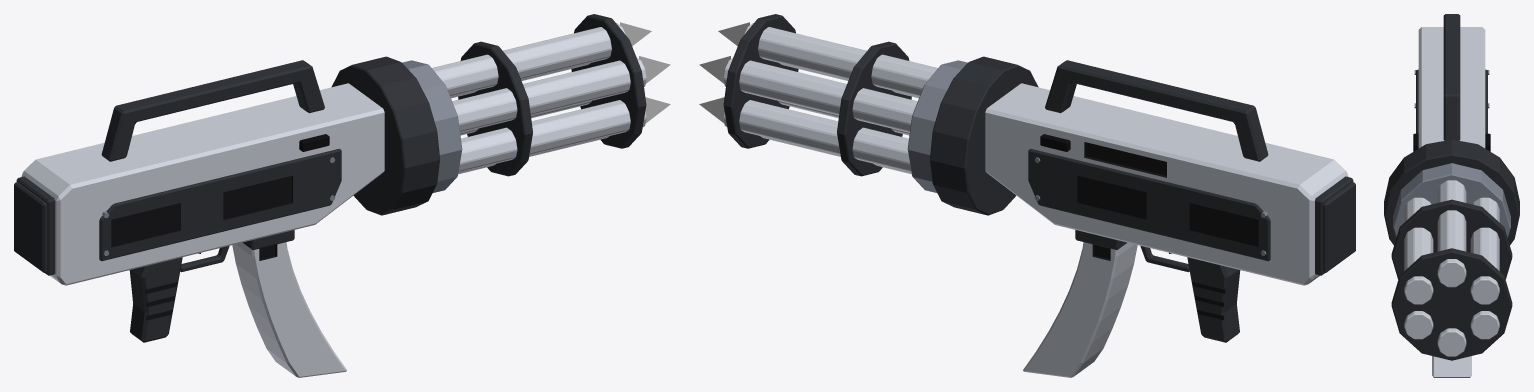
File: rocket_minigun42.obj
3 renders of one model, left to right at view 1: azimuth 30°, elevation 25°; view 2: azimuth 150°, elevation 25°; view 3: azimuth 270°, elevation 25°, orthographic. The views are drawn at different scales.
Visible parts, largest first — view 1: body, cluster, mag; view 2: body, cluster, mag; view 3: cluster, body, mag.
Boxes of the visible parts, left/top/right/bottom form: body: left=14, top=56, right=439, bottom=342; cluster: left=402, top=14, right=646, bottom=192; mag: left=232, top=242, right=346, bottom=377; body: left=930, top=56, right=1355, bottom=342; cluster: left=723, top=14, right=967, bottom=192; mag: left=1023, top=242, right=1137, bottom=377; cluster: left=1391, top=163, right=1512, bottom=360; body: left=1384, top=14, right=1519, bottom=244; mag: left=1432, top=356, right=1471, bottom=377.
Bounding box in the file's own units: 0.6872 × 0.3248 × 0.1472.
